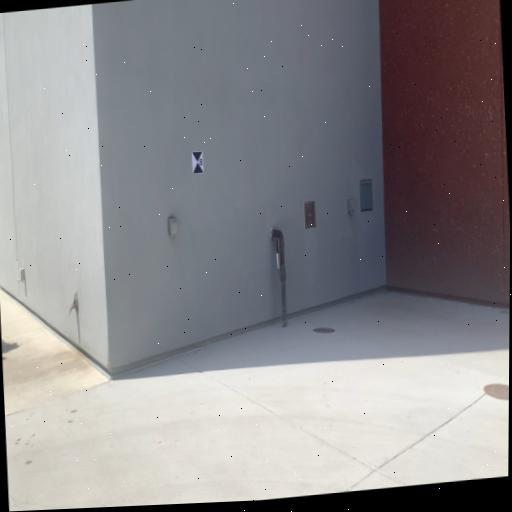target8: (191, 150, 205, 176)
